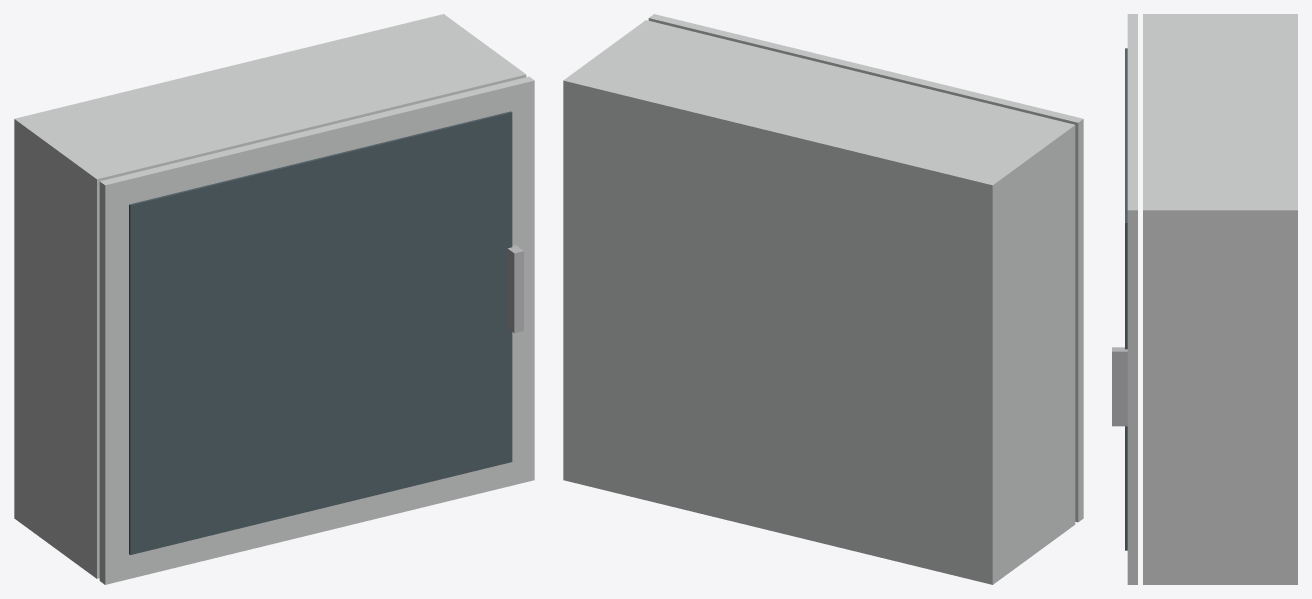
File: SM_RespiratorCabinet.fbx
The picture shows the model from 3 angles, left to right: view 1: azimuth 30°, elevation 25°; view 2: azimuth 150°, elevation 25°; view 3: azimuth 270°, elevation 25°; orthographic projection. The views are drawn at different scales.
Visible parts, largest first — view 1: RESP_Door, RESP_Cabinet; view 2: RESP_Cabinet, RESP_Door; view 3: RESP_Cabinet, RESP_Door.
Part boxes in pixels (x1=…): RESP_Door: x1=99, y1=76, x2=534, y2=584; RESP_Cabinet: x1=14, y1=14, x2=526, y2=578; RESP_Cabinet: x1=563, y1=20, x2=1075, y2=584; RESP_Door: x1=648, y1=14, x2=1083, y2=522; RESP_Cabinet: x1=1143, y1=14, x2=1297, y2=584; RESP_Door: x1=1112, y1=14, x2=1137, y2=584.
Size of the model in its own units: 90 by 80 by 36.
